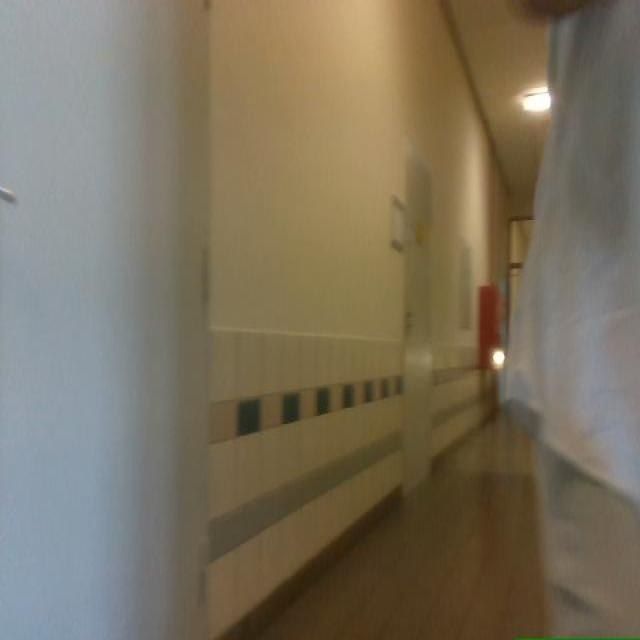humans: (505, 0, 639, 636)
